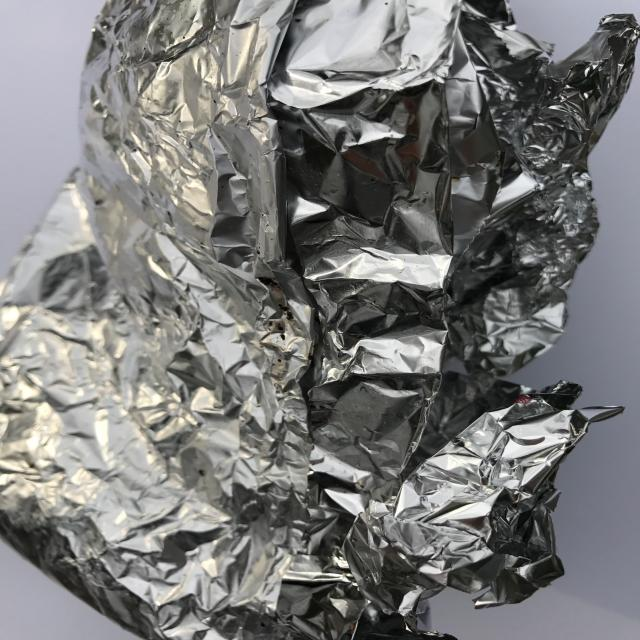metal: (2, 1, 638, 638)
